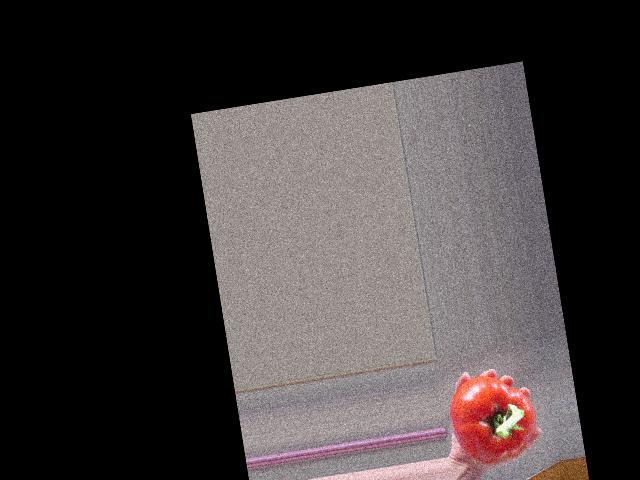tomato: (444, 368, 541, 468)
